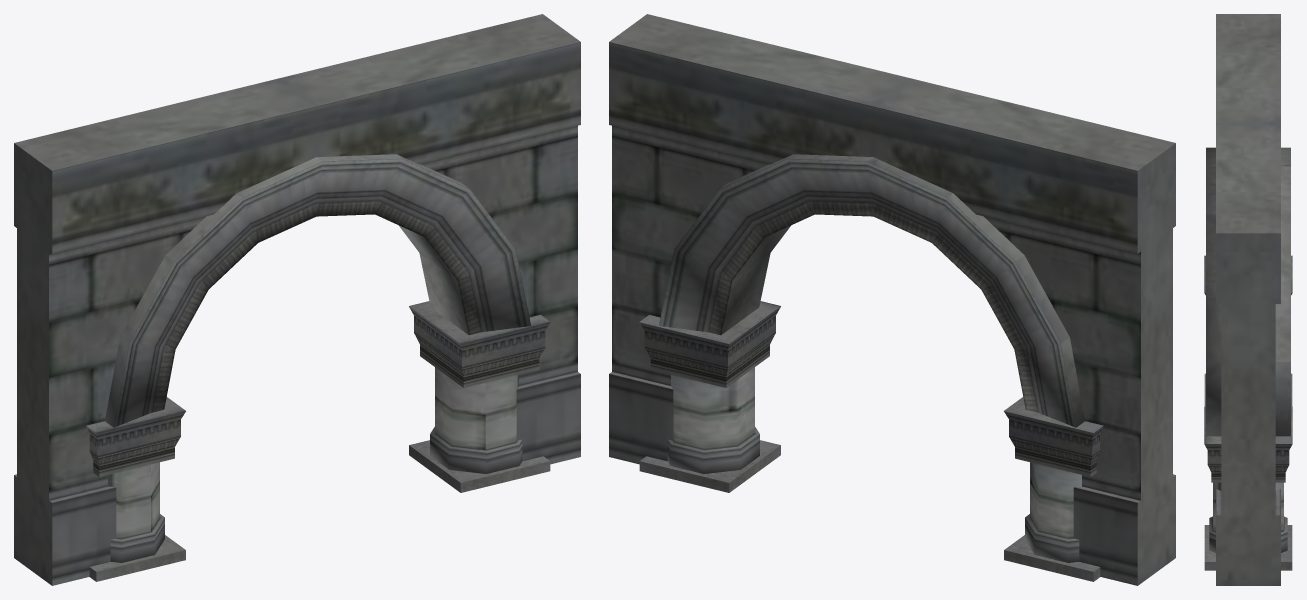
The model's file is sd_door_arched_01.glb.
3 renders of one model, left to right at view 1: azimuth 30°, elevation 25°; view 2: azimuth 150°, elevation 25°; view 3: azimuth 270°, elevation 25°, orthographic. The views are drawn at different scales.
Visible parts, largest first — view 1: door_arched_01.001; view 2: door_arched_01.001; view 3: door_arched_01.001.
Boxes of the visible parts, x1,y1,x2,y2 form: door_arched_01.001: (14, 14, 580, 585); door_arched_01.001: (609, 14, 1175, 585); door_arched_01.001: (1204, 14, 1292, 585).
Bounding box in the file's own units: 4 × 3 × 0.6817.
Materials: 1 (1 with a texture image).
